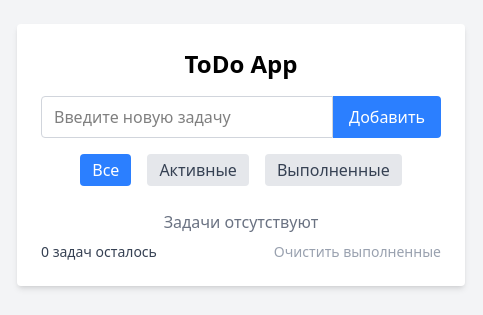
Test: ToDo App › очищает выполненные задачи
# Добавляем задачу
In the field with placeholder "Введите новую задачу": (187, 117) [41, 96, 333, 138], type "Выполненная задача"
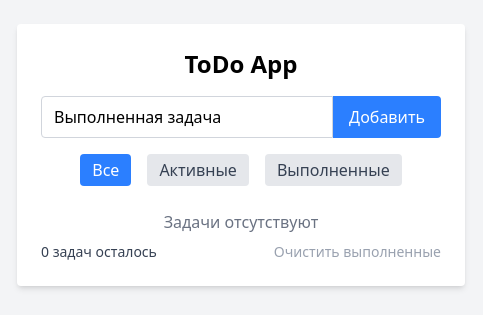
Click the button "Добавить": click(387, 117) [333, 96, 441, 138]
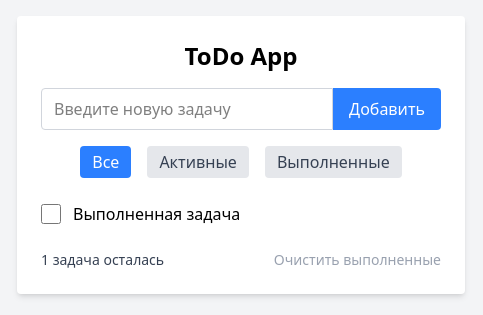
# Отмечаем выполненной
Click the text "Выполненная задача": click(157, 214) [73, 203, 240, 225]
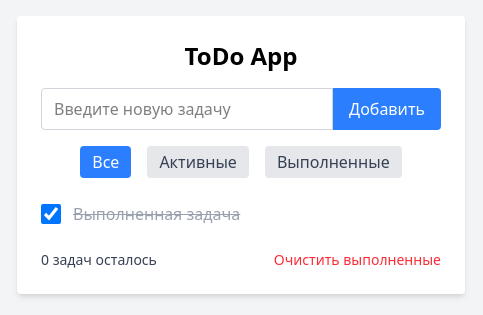
Now the button "Очистить выполненные" is enabled
Click the button "Очистить выполненные": click(357, 260) [274, 250, 441, 270]
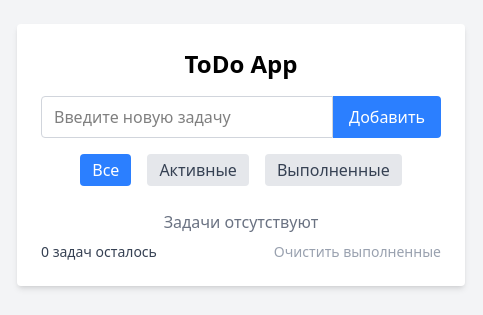
Now the text "Выполненная задача" is gone
